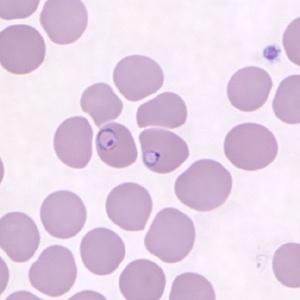Infected: (138, 128, 190, 174), (94, 123, 138, 168)
Uninfected: (174, 159, 232, 213), (144, 208, 195, 264), (223, 122, 278, 170), (28, 245, 77, 296), (113, 54, 163, 102), (39, 190, 86, 240), (105, 182, 152, 231), (0, 24, 45, 74), (39, 0, 88, 45), (80, 227, 125, 276), (54, 115, 94, 168), (118, 257, 166, 300), (0, 211, 40, 262), (227, 67, 273, 111), (137, 92, 187, 131), (81, 82, 123, 125), (272, 75, 300, 125)
